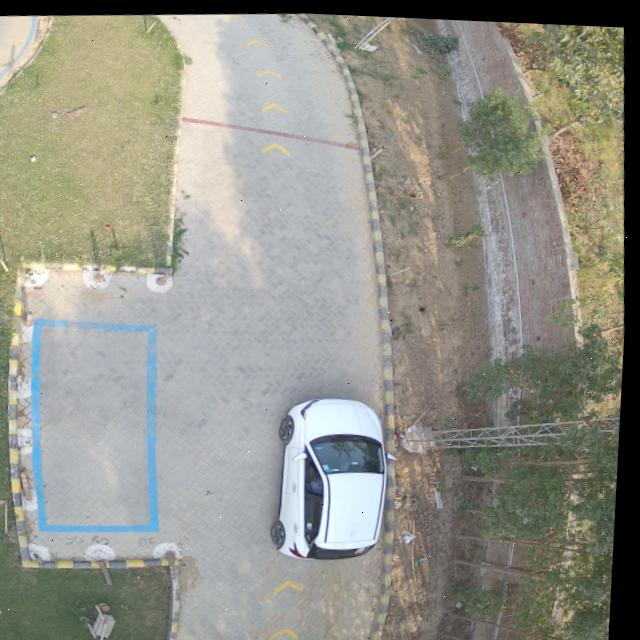car: (278, 395, 390, 557)
